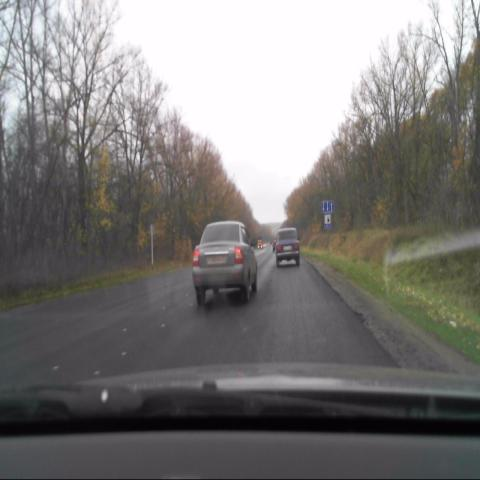5_15_7: (322, 200, 333, 212)
7_3: (324, 214, 330, 230)
